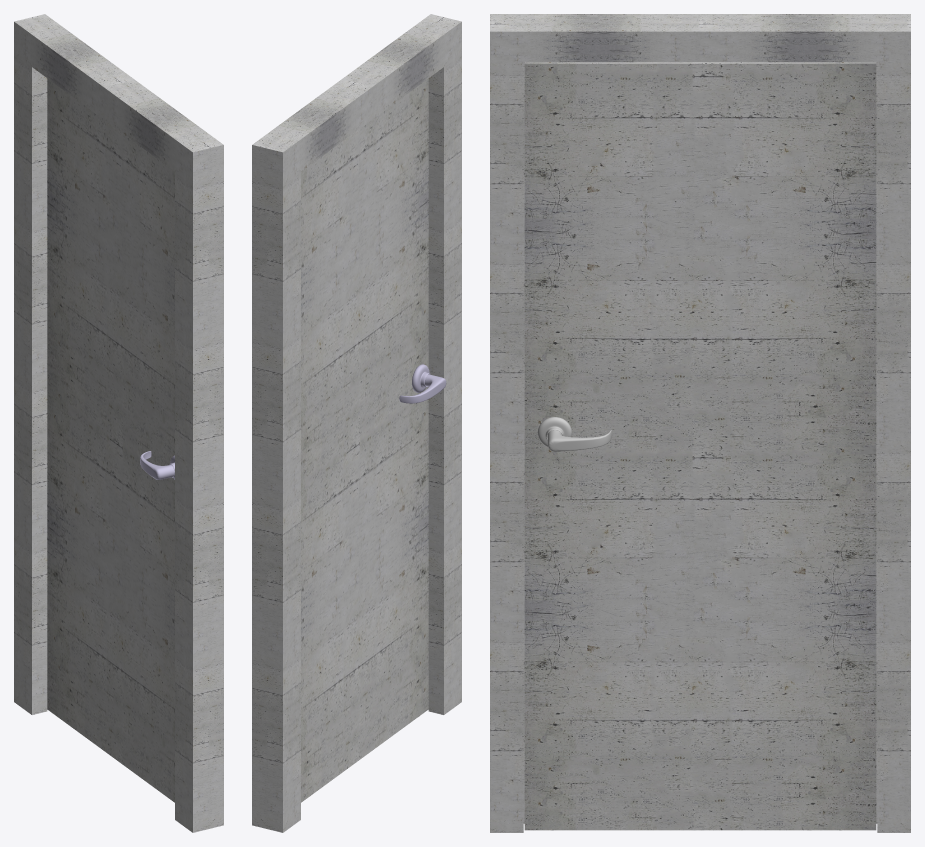
File: Puerta.fbx
The picture shows the model from 3 angles, left to right: view 1: azimuth 30°, elevation 25°; view 2: azimuth 150°, elevation 25°; view 3: azimuth 270°, elevation 25°; orthographic projection. The views are drawn at different scales.
Parts seen in each view (by area): view 1: Door, DoorFrame, Handle_Front; view 2: Door, DoorFrame, Handle_Front; view 3: Door, DoorFrame, Handle_Back.
Boxes of the visible parts, x1,y1,x2,y2 form: Door: [47, 78, 174, 802]; DoorFrame: [14, 14, 223, 832]; Handle_Front: [140, 451, 174, 479]; Door: [301, 78, 428, 802]; DoorFrame: [252, 14, 461, 832]; Handle_Front: [399, 364, 446, 403]; Door: [524, 62, 876, 830]; DoorFrame: [490, 14, 910, 832]; Handle_Back: [537, 417, 612, 451].
Bounding box in the file's own units: 184 × 1829 × 871.
